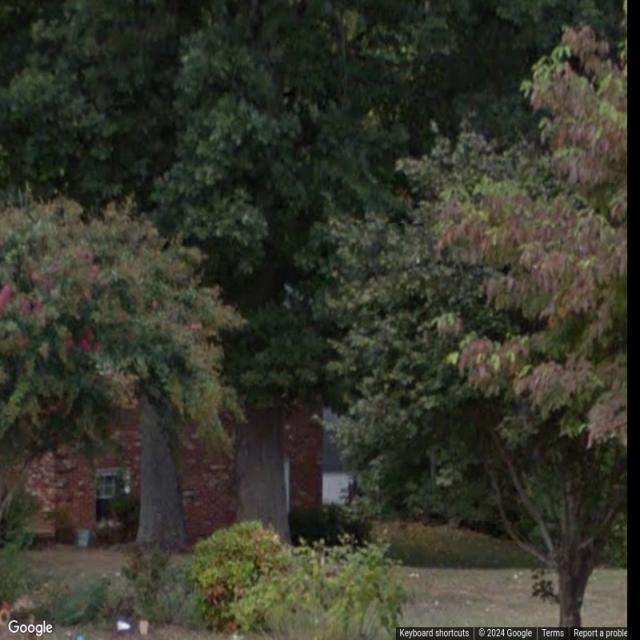House: (0, 393, 322, 550)
